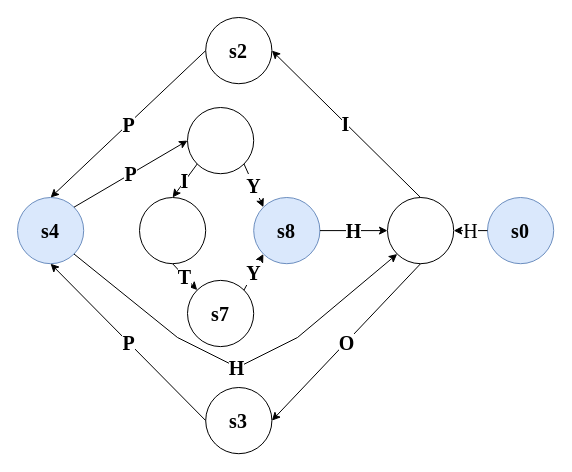
Some shapes in this 572 by 472 pixel diagram are drawn without their labels. Here are the shapes that lost their labels. From the top down, the box of each, then its label:
(186, 106, 254, 174): s5
(138, 196, 206, 264): s6
(386, 196, 454, 264): s1
